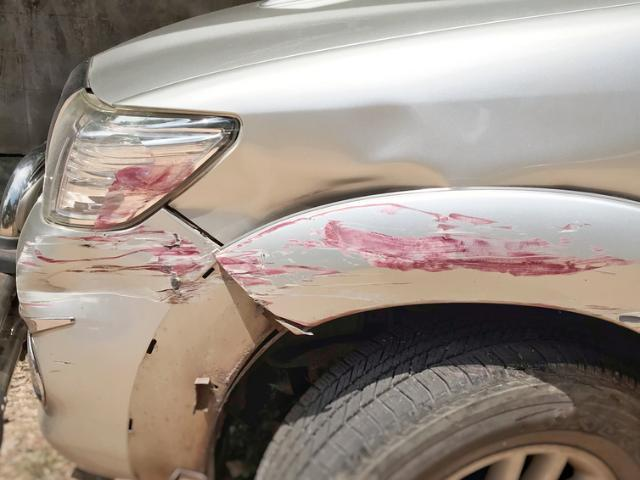Bumper: (19, 192, 217, 480)
Fender: (179, 177, 640, 326)
